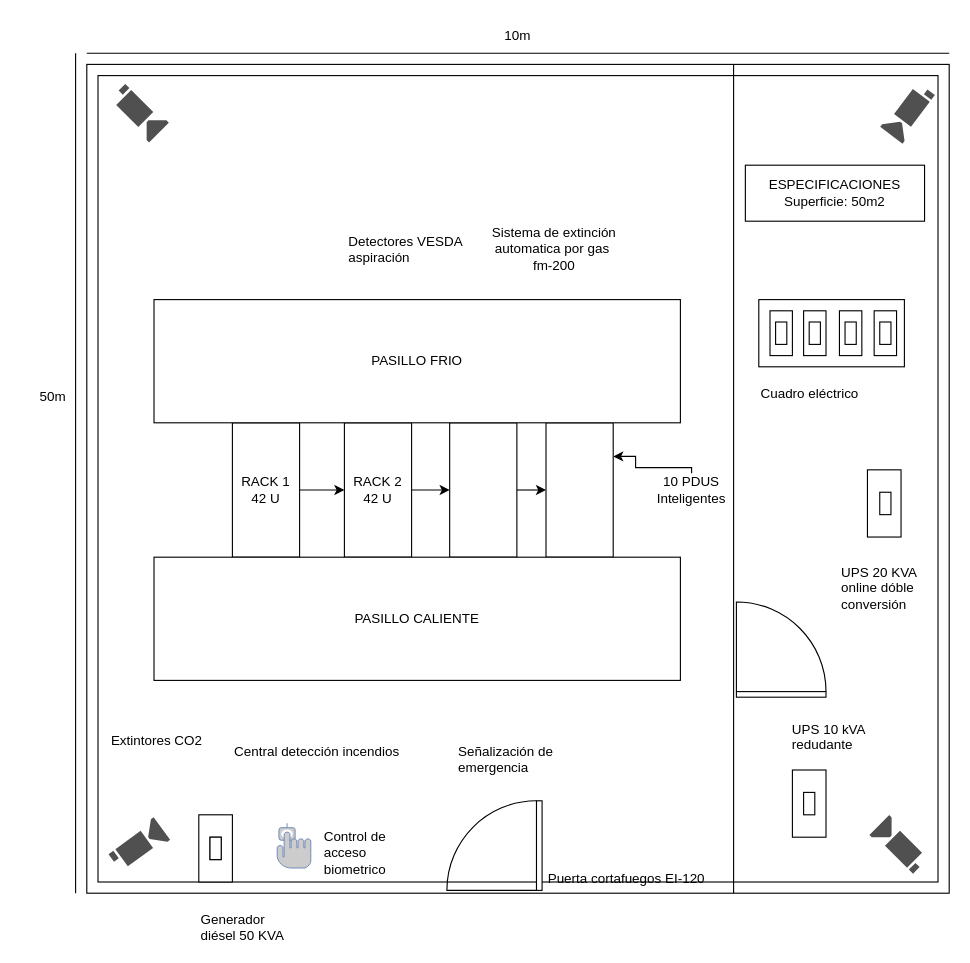
Some shapes in this 970 by 963 pixel diagram are drawn without their labels. The shapes that lost their labels are listed below. From the top down, each one's centre as x and y in pixels, then its label:
[483,489]: RACK 3 42U
[579,489]: RACK 4 42U
